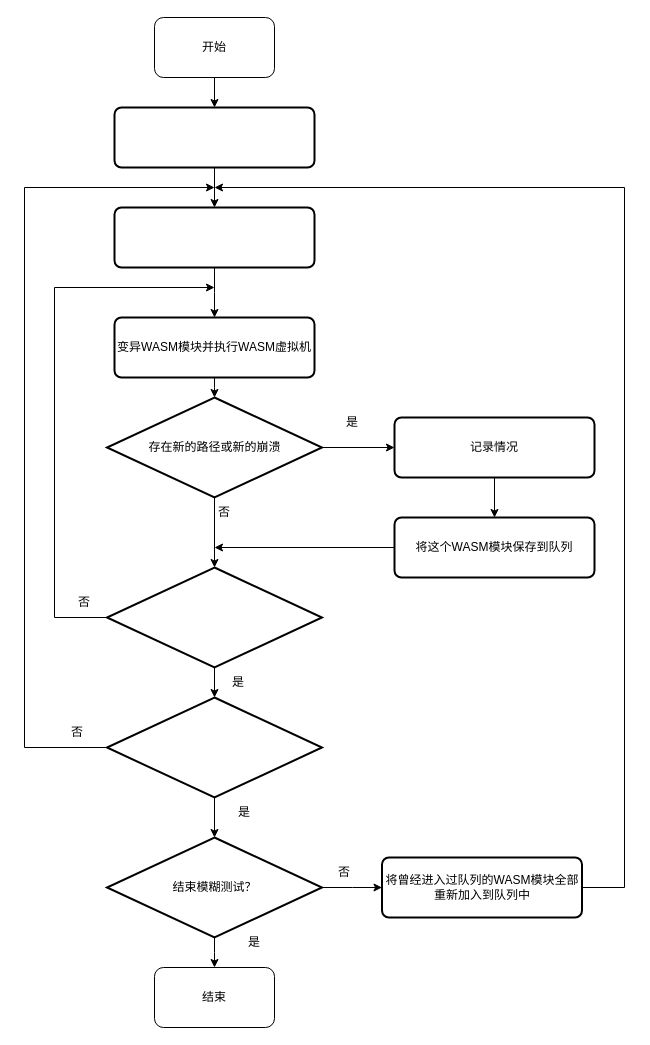
The diagram is 650 pixels wide and 1045 high, and some of its shapes have lost their labels. The centre of each missing label's shape, as x and y in pixels:
"WASM模块变异次数到上限" goes at (x=214, y=617).
"从队列中取出队首WASM模块" goes at (x=214, y=237).
"读取初始化WASM文件以生成WASM模块内部存储结构，加入到队列并执行WASM虚拟机" goes at (x=214, y=137).
"队列为空" goes at (x=214, y=747).
